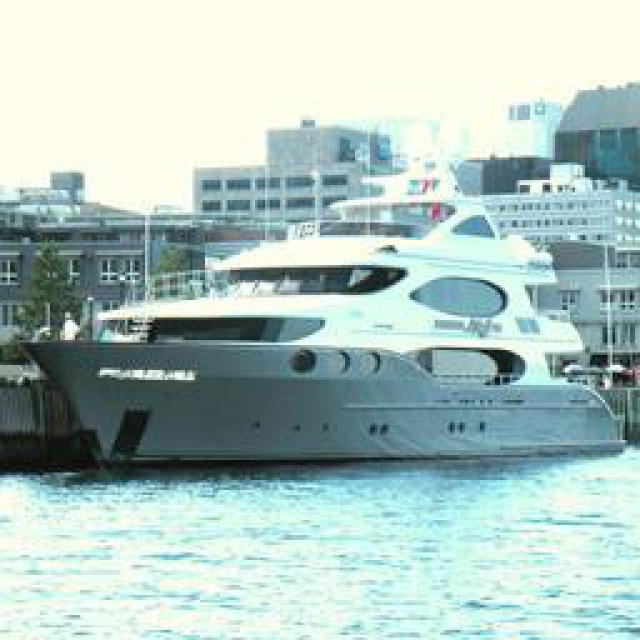Ship: (23, 210, 638, 470)
